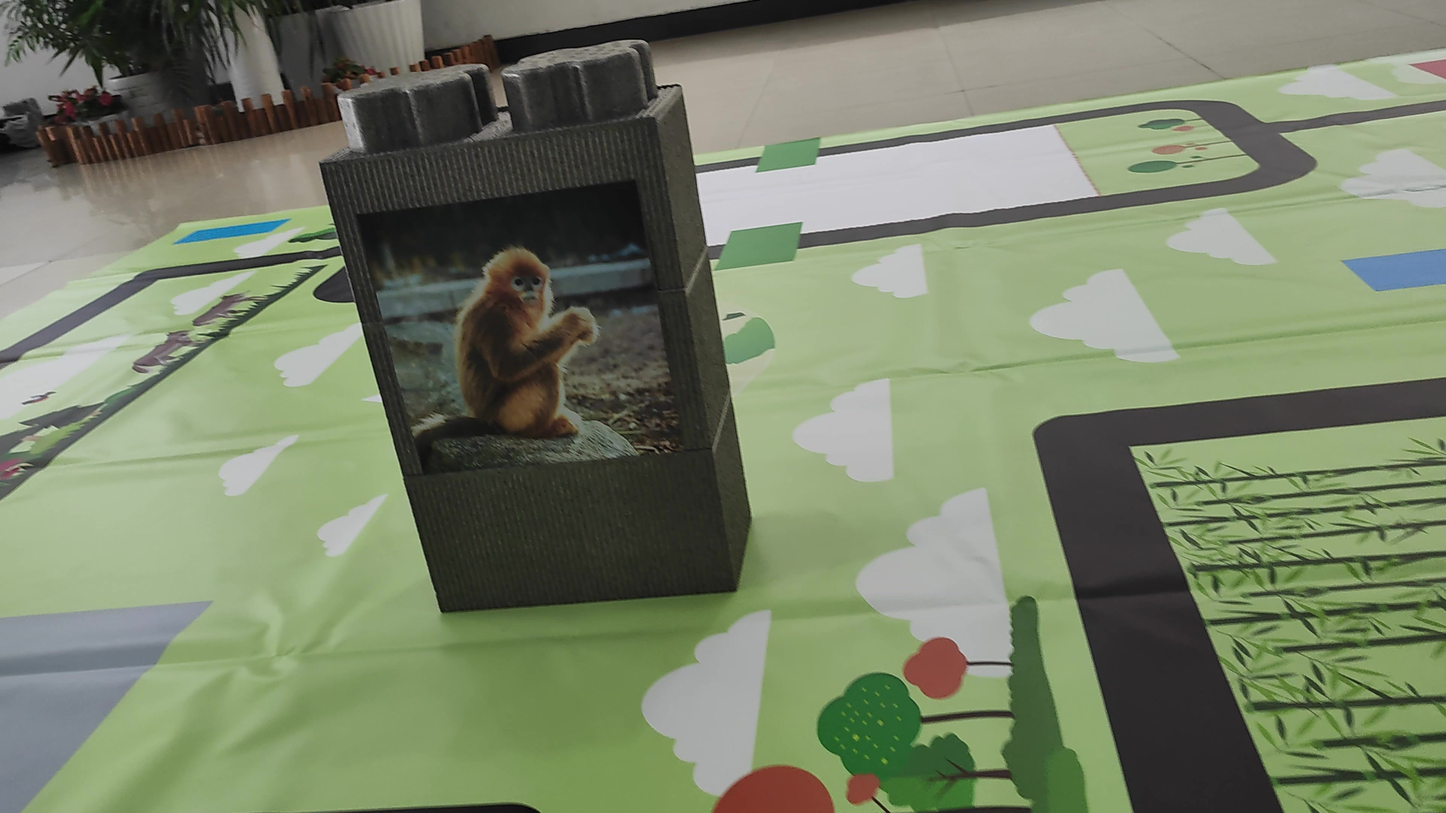monkey: (392, 232, 646, 464)
